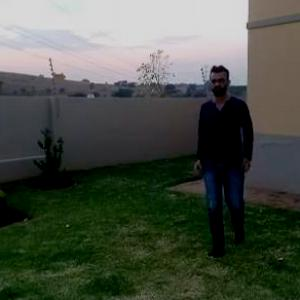follow: (195, 65, 254, 235)
